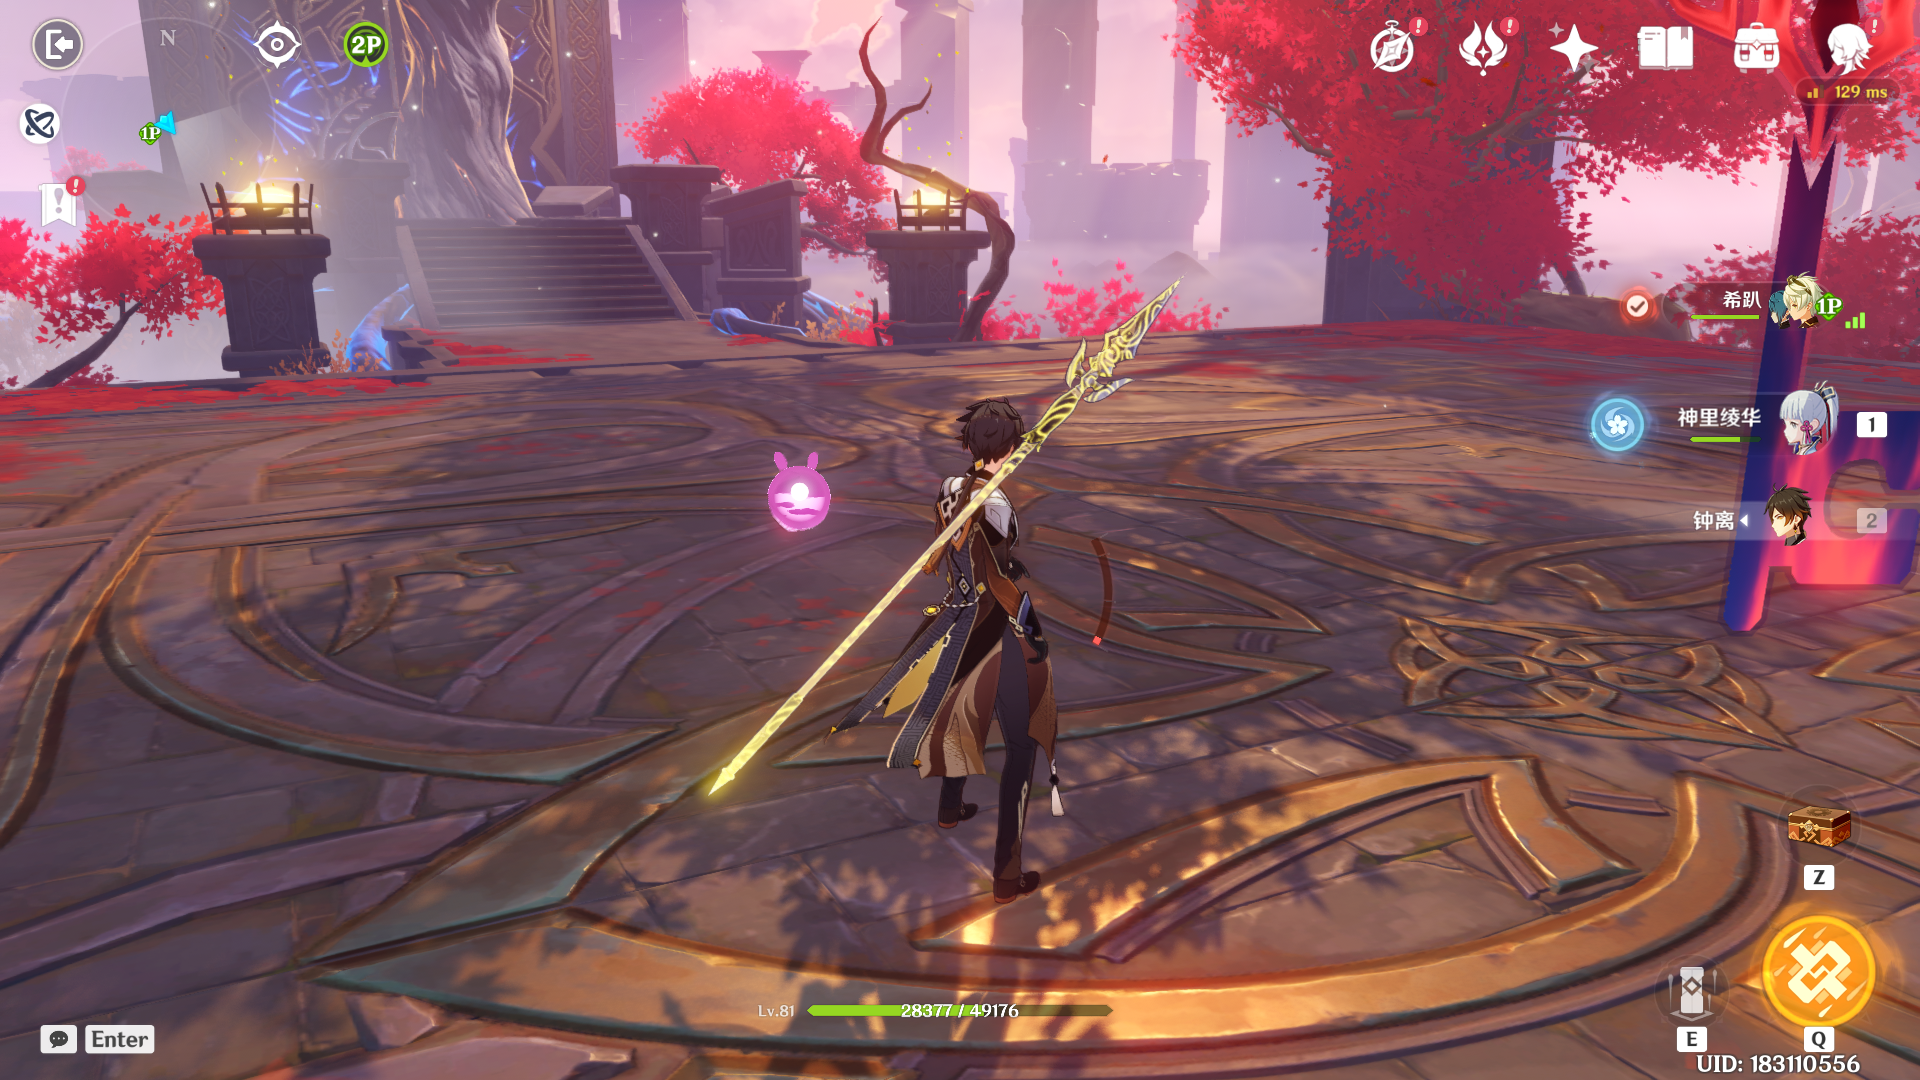character: (851, 392, 1108, 906)
